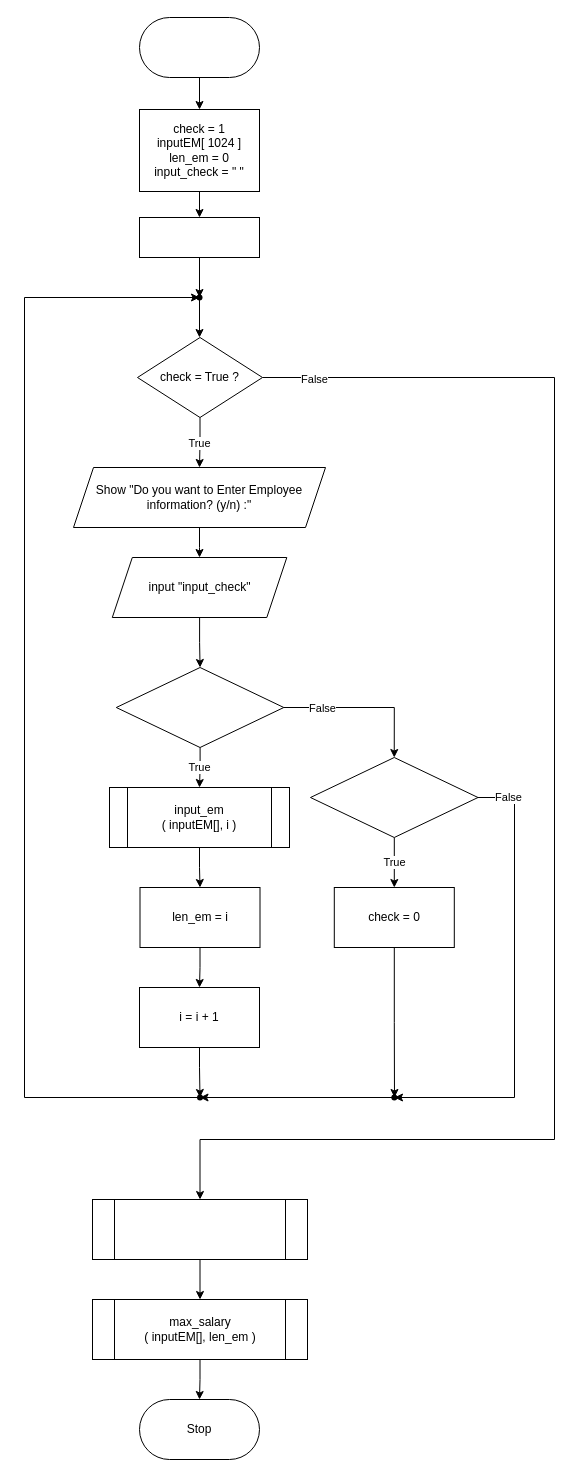
This 580x1477 diagram has some shape labels left out. Each missing label, with the centre of its shape:
"i = 0" belongs at point (199, 237).
"input_check = 'n' ?" belongs at point (394, 797).
"input_check = 'y' ?" belongs at point (199, 707).
"Start" belongs at point (199, 47).
"sum_ave_salary ( inputEM[], len_em )" belongs at point (200, 1229).
